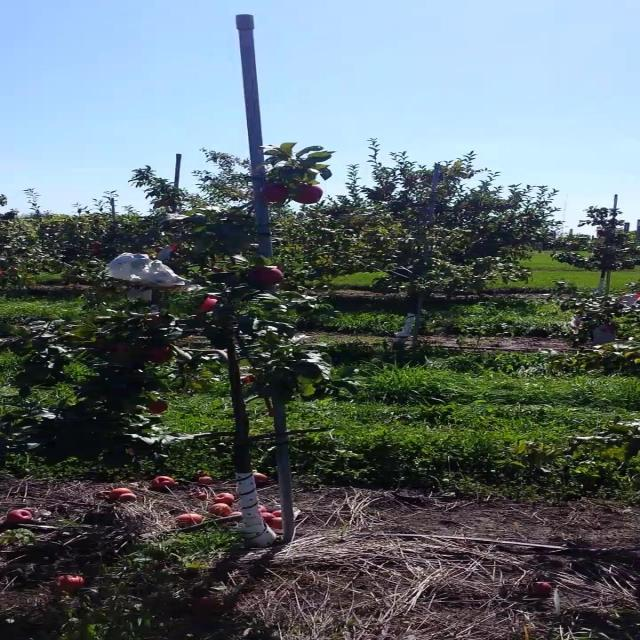apple: (262, 184, 292, 204), (255, 268, 284, 284), (298, 188, 327, 204), (148, 348, 172, 363), (198, 296, 220, 312), (148, 404, 171, 415), (148, 316, 169, 325), (113, 344, 128, 353), (241, 376, 256, 384)
